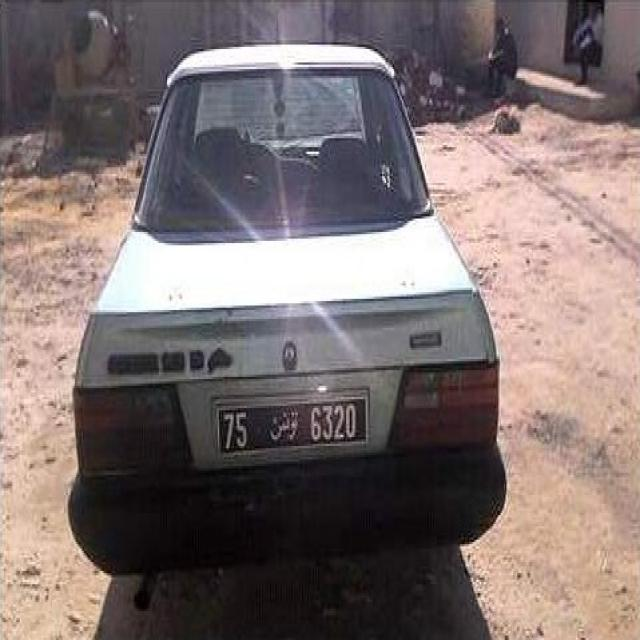licence plate: (220, 400, 365, 450)
